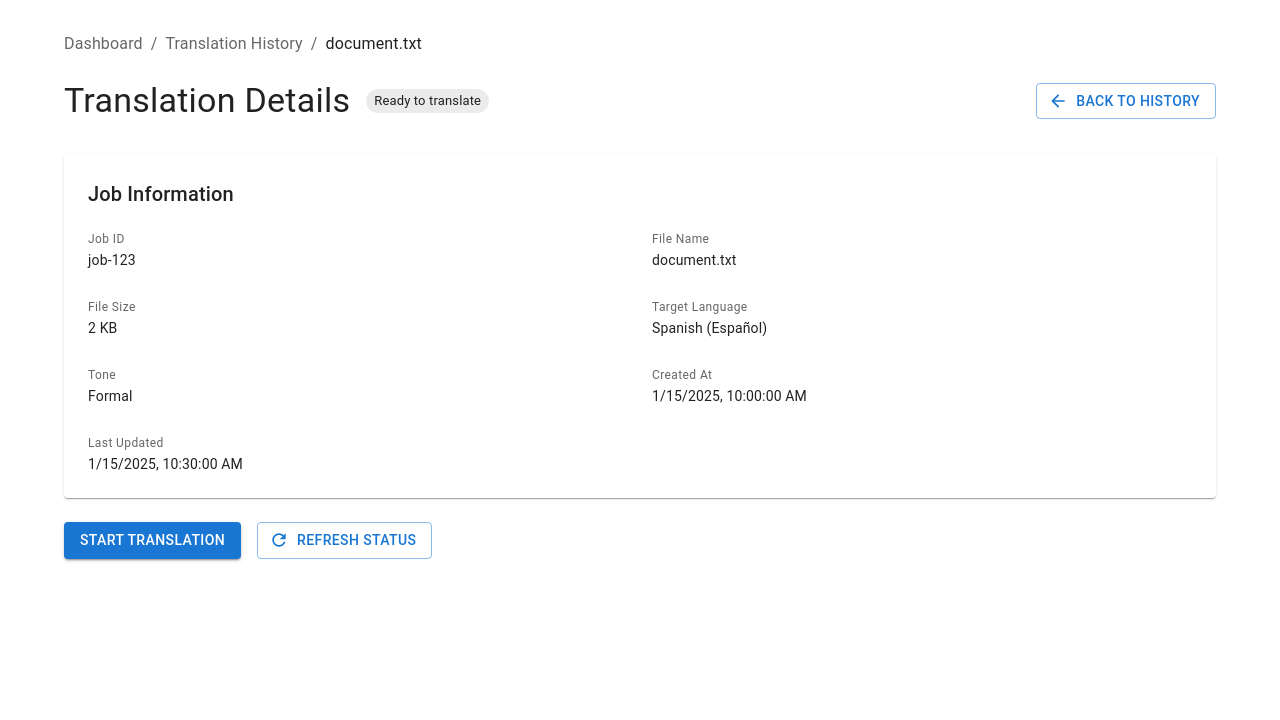
Test: TranslationDetail › Start/Retry Translation › surfaces the API envelope `message` when start translation fails (#266)
The image size is (1280, 720).
What coordinates should you click on to do the following:
click the button "Start Translation"
I would click on:
 (153, 540)
Its box is [64,522,241,558].
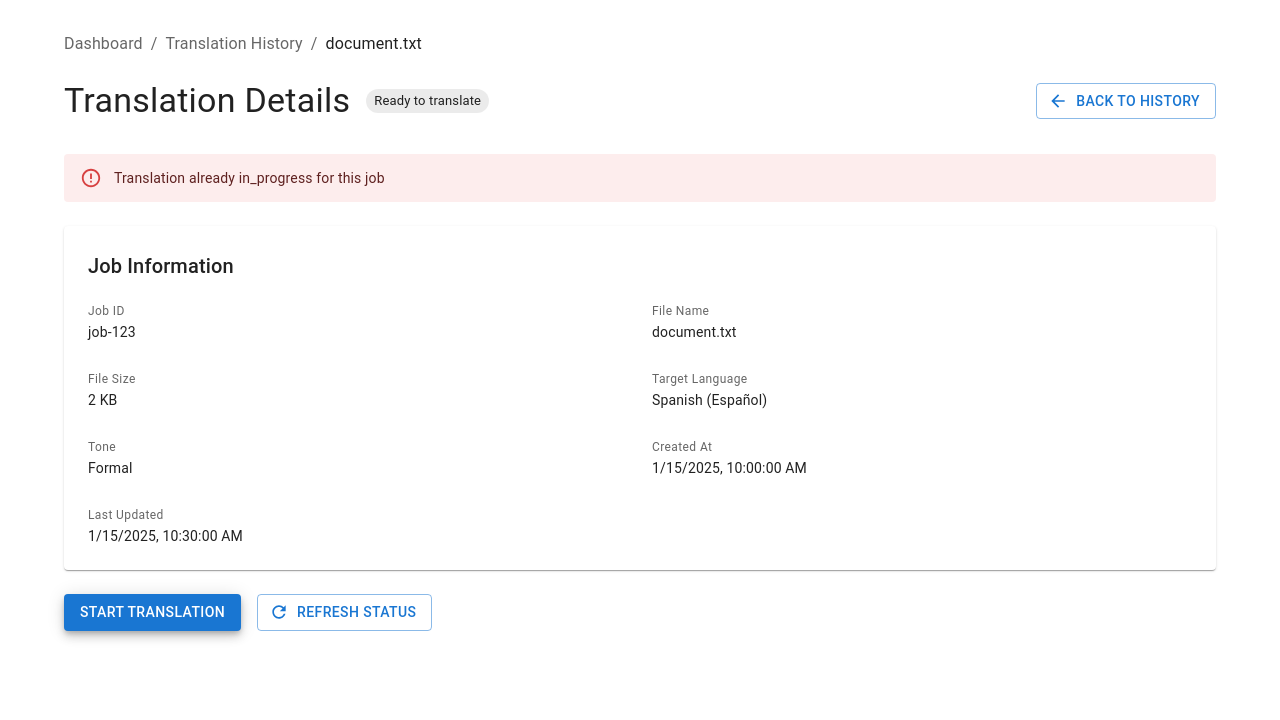
Result: the text "Translation already in_progress for this job" is shown at [114,170,385,186]
